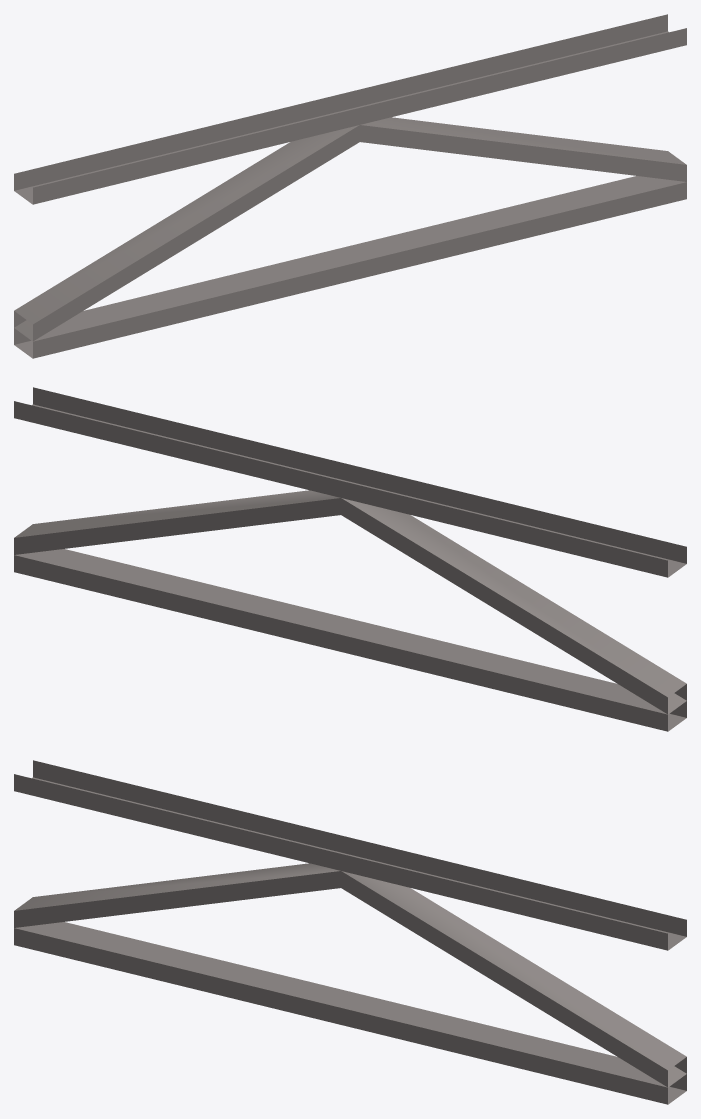
Rendered from SM_Beam_Ceiling_400.fbx.
3 renders of one model, top to bottom at view 1: azimuth 30°, elevation 25°; view 2: azimuth 150°, elevation 25°; view 3: azimuth 330°, elevation 25°, orthographic.
Parts seen in each view (by area): view 1: SM_Beam_Ceiling_400; view 2: SM_Beam_Ceiling_400; view 3: SM_Beam_Ceiling_400.
Boxes of the visible parts, left/top/right/bottom form: SM_Beam_Ceiling_400: left=14, top=14, right=686, bottom=358; SM_Beam_Ceiling_400: left=14, top=387, right=686, bottom=731; SM_Beam_Ceiling_400: left=14, top=760, right=686, bottom=1104.
Size of the model in its own units: 400 by 100 by 20.
Materials: 1 (1 with a texture image).
